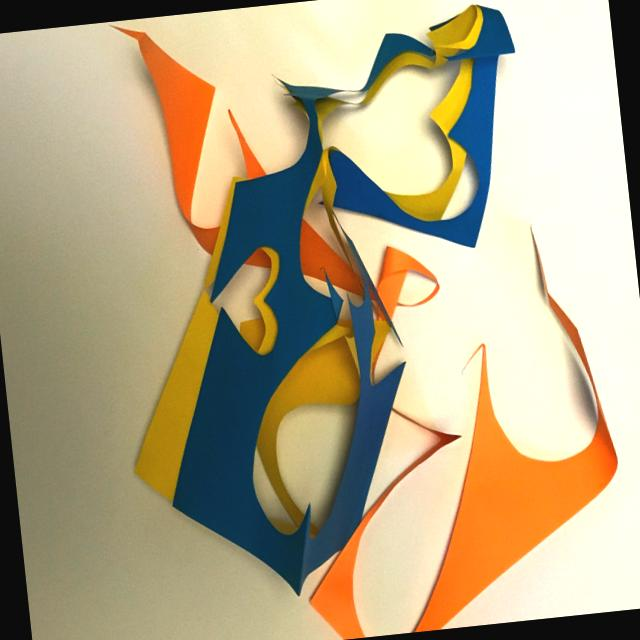Paper: (82, 0, 634, 640)
